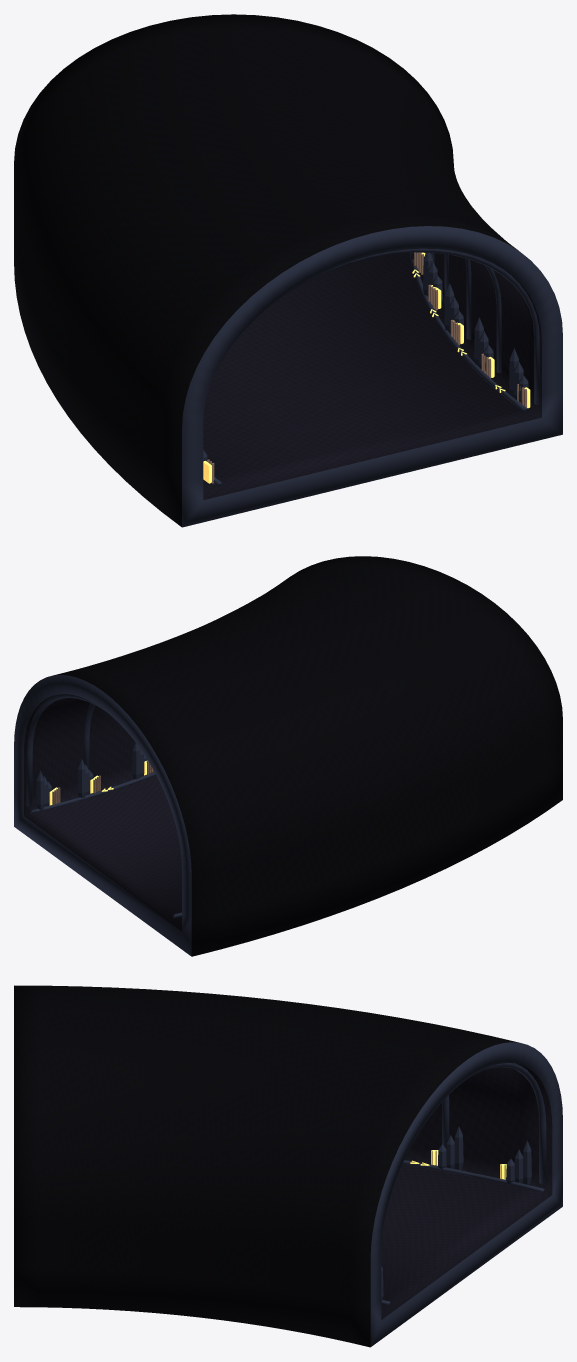
File: curve_right_30_lod1.glb
3 renders of one model, top to bottom at view 1: azimuth 30°, elevation 25°; view 2: azimuth 150°, elevation 25°; view 3: azimuth 270°, elevation 25°, orthographic. The views are drawn at different scales.
Visible parts, largest first — view 1: TunnelGeometry.001; view 2: TunnelGeometry.001; view 3: TunnelGeometry.001.
Part boxes in pixels (<box>): TunnelGeometry.001: <box>14,14,562,527</box>; TunnelGeometry.001: <box>14,556,562,956</box>; TunnelGeometry.001: <box>14,985,562,1347</box>.
Size of the model in its own units: 19.1 by 9.52 by 21.83.
5 materials, 2 textured.
